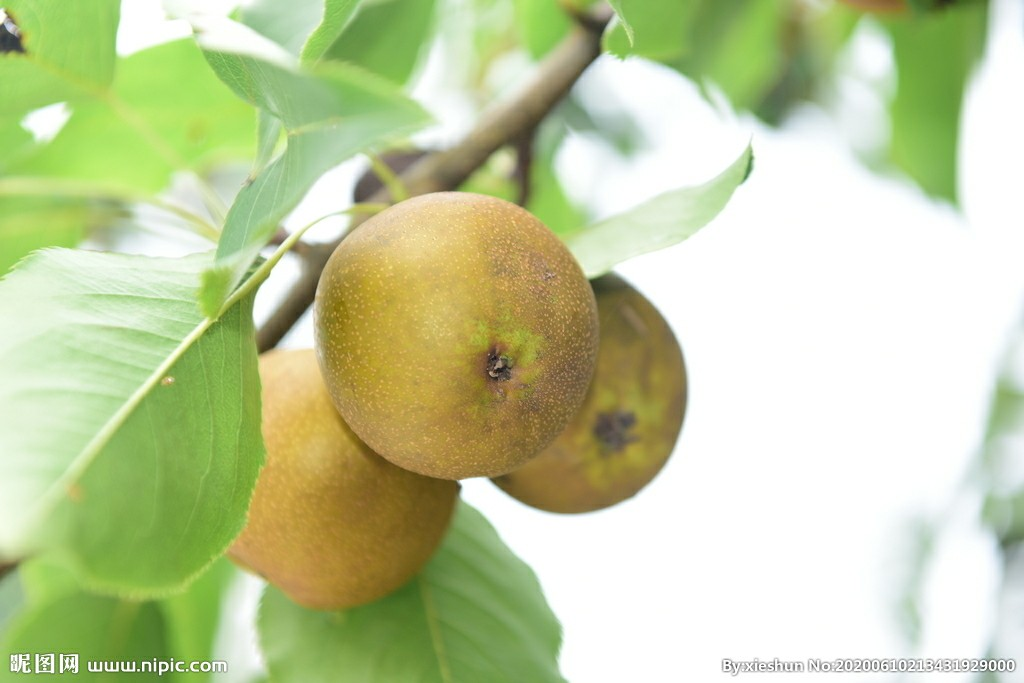pear: (313, 189, 603, 478), (203, 341, 458, 605), (478, 265, 689, 515)
